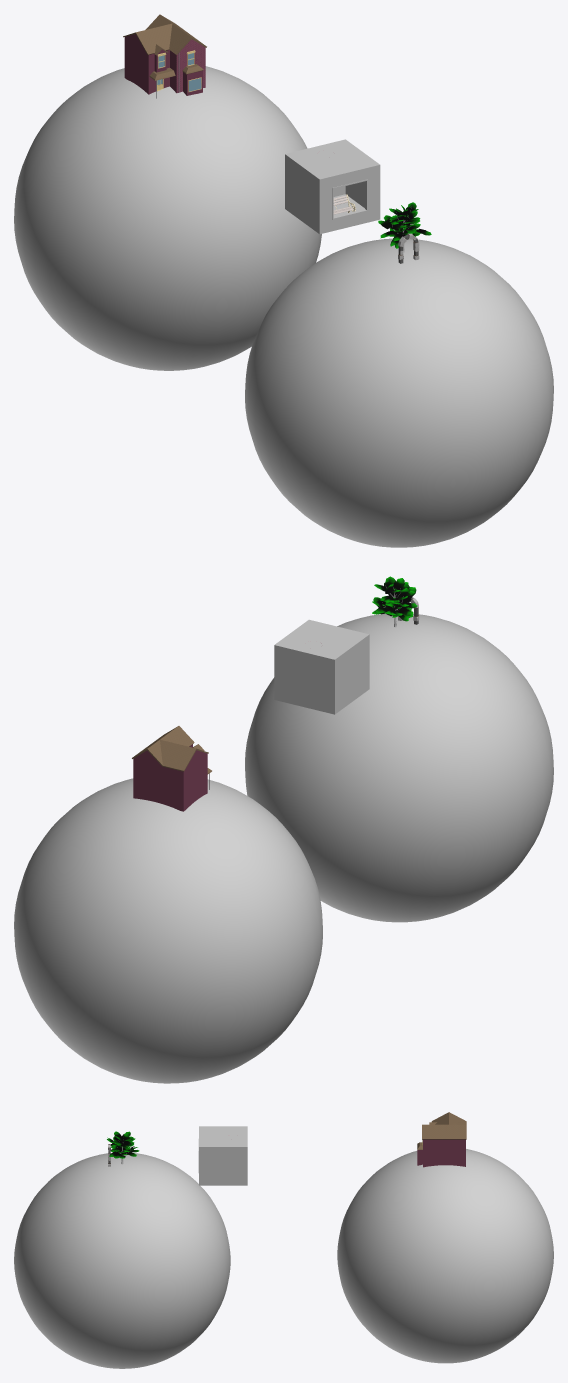
Rendered from Cena-Banquinho-Completa.fbx.
3 renders of one model, top to bottom at view 1: azimuth 30°, elevation 25°; view 2: azimuth 150°, elevation 25°; view 3: azimuth 270°, elevation 25°, orthographic. The views are drawn at different scales.
Visible parts, largest first — view 1: Mundo-Arvore, Mundo-Casa, Base-Bench, House-Base, Telhado, Tree; view 2: Mundo-Casa, Mundo-Arvore, Base-Bench, House-Base, Telhado, Tree; view 3: Mundo-Arvore, Mundo-Casa, Base-Bench, House-Base, Telhado, Tree.
Boxes of the visible parts, left/top/right/bottom form: Mundo-Arvore: left=245, top=238, right=553, bottom=547; Mundo-Casa: left=14, top=66, right=321, bottom=370; Base-Bench: left=285, top=139, right=380, bottom=234; House-Base: left=124, top=34, right=205, bottom=98; Telhado: left=123, top=14, right=206, bottom=80; Tree: left=378, top=202, right=431, bottom=252; Mundo-Casa: left=14, top=778, right=322, bottom=1083; Mundo-Arvore: left=245, top=613, right=553, bottom=922; Base-Bench: left=274, top=619, right=369, bottom=714; House-Base: left=133, top=744, right=209, bottom=811; Telhado: left=132, top=726, right=211, bottom=774; Tree: left=372, top=576, right=417, bottom=627; Mundo-Arvore: left=14, top=1153, right=230, bottom=1368; Mundo-Casa: left=337, top=1149, right=553, bottom=1363; Base-Bench: left=198, top=1126, right=247, bottom=1185; House-Base: left=417, top=1139, right=465, bottom=1167; Telhado: left=417, top=1112, right=466, bottom=1149; Tree: left=107, top=1131, right=139, bottom=1164.
Bounding box in the file's own units: 3359 × 4042 × 8369.
